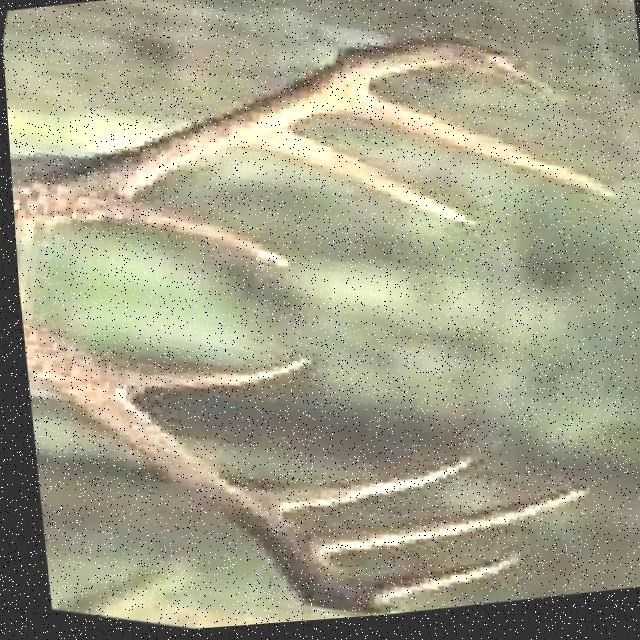L-F: (8, 43, 547, 226)
L-G1: (92, 201, 287, 273)
L-G2: (240, 133, 473, 231)
L-G3: (335, 100, 617, 208)
R-F: (17, 320, 396, 622)
R-G1: (92, 353, 307, 398)
R-G2: (238, 461, 472, 520)
R-G3: (293, 496, 581, 570)
R-G4: (328, 556, 518, 607)
